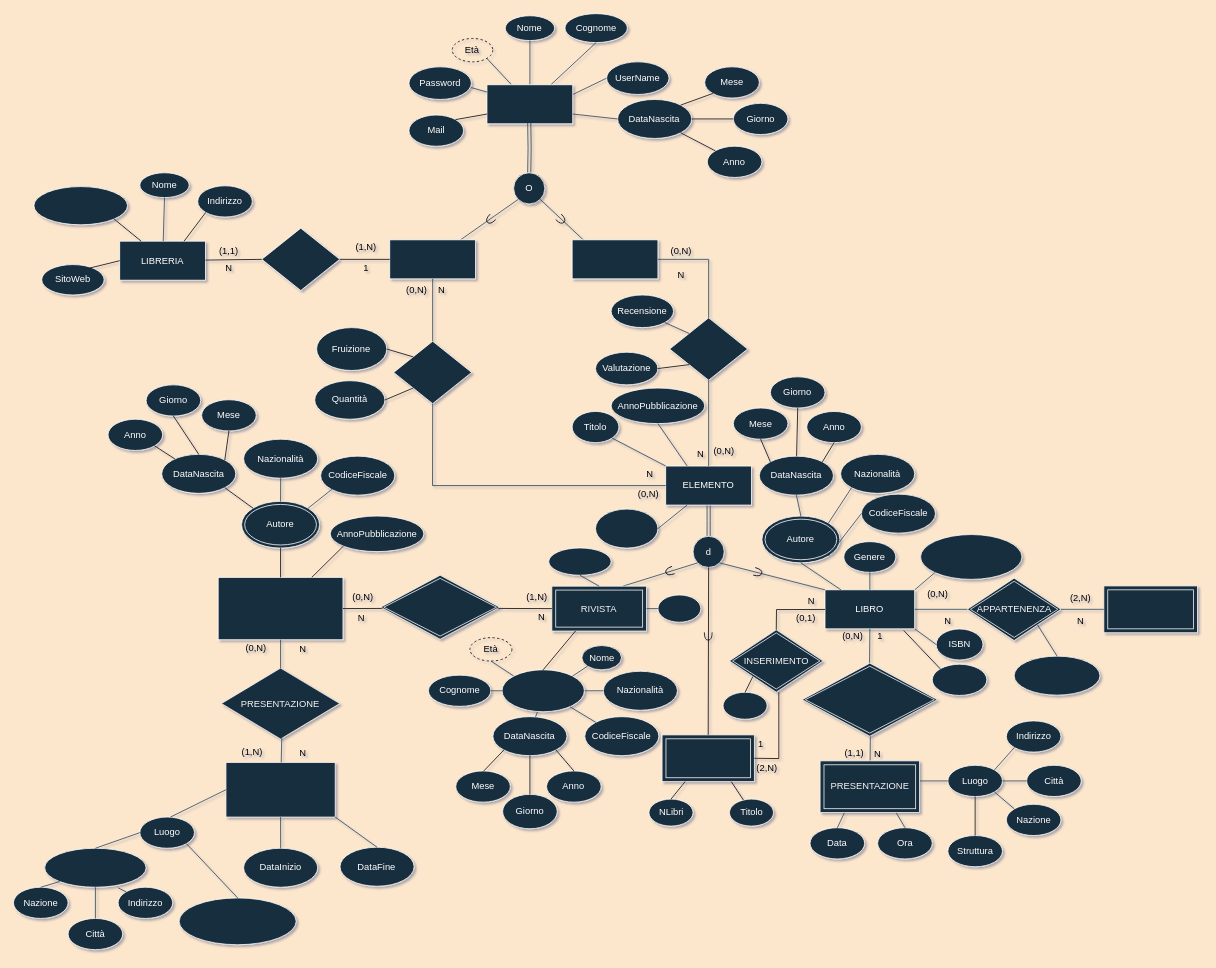
This 1216x968 diagram has some shape labels left out. The shapes that lost their labels are listed below. From the top down, each one's centre as x and y in pixels, then its label:
(529,104): UTENTE
(80,205): NumeroTelefonico
(300,259): GESTIONE
(432,259): VENDITORE
(614,259): STANDARD
(708,348): PREFERITI
(432,372): POSSESSO
(626,528): Editore
(579,561): Argomento
(971,556): DataPubblicazione
(280,608): ARTICOLO_SCIENTIFICO
(440,606): COMPOSIZIONE
(679,608): ISSN
(1150,609): COLLANA
(542,690): Responsabile
(959,679): Lingua
(1056,675): Caratteristica
(744,705): Ordine
(869,699): PARTECIPAZIONE
(707,758): SERIE
(280,789): CONFERENZA
(95,867): LuogoConferenza
(237,921): StrutturaOrganizzatrice
